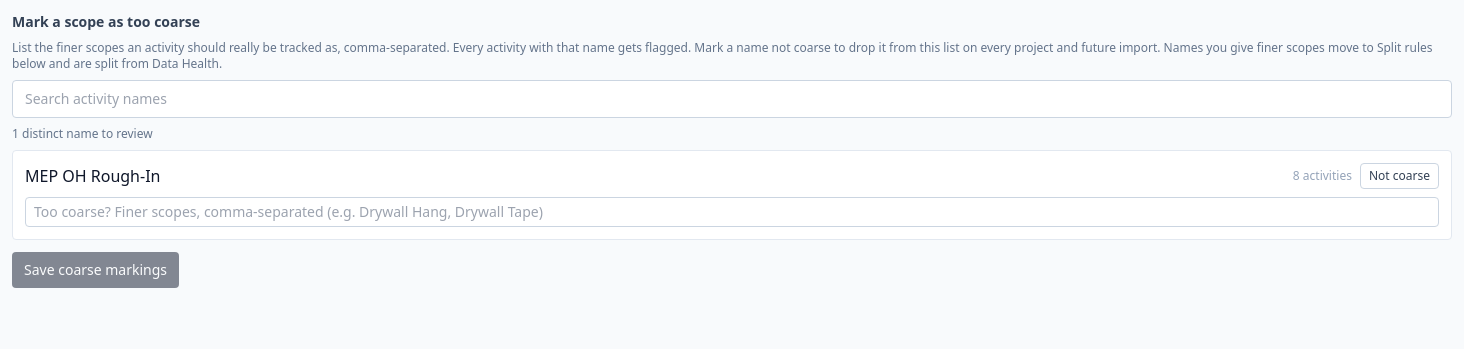
Test: CoarsePanel › reports the server's refusal instead of failing silently
The image size is (1464, 349).
Replace the text in the field with placeholder "Too coarse?" with "A" at (732, 212), box [25,197,1439,227]
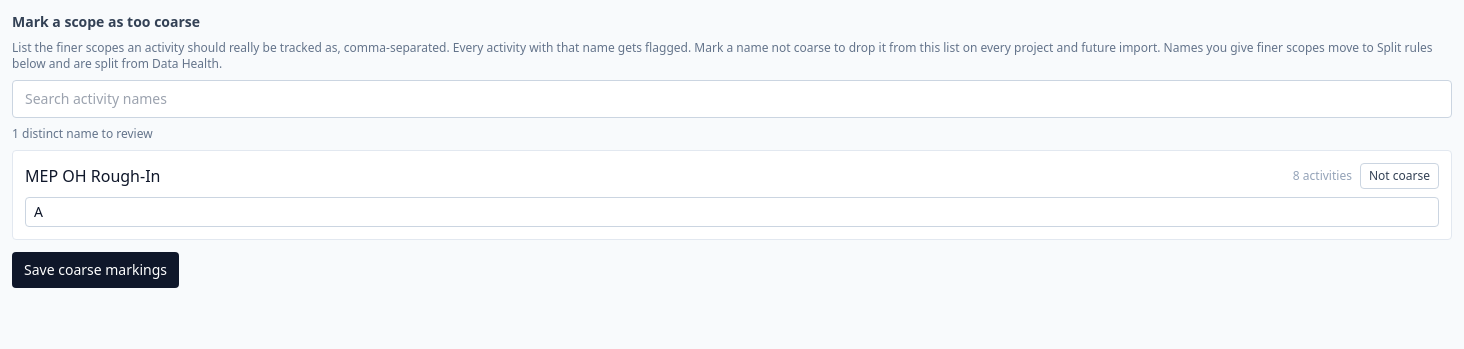
Click the button "Save coarse markings".
click(96, 270)  # box [12,252,179,288]
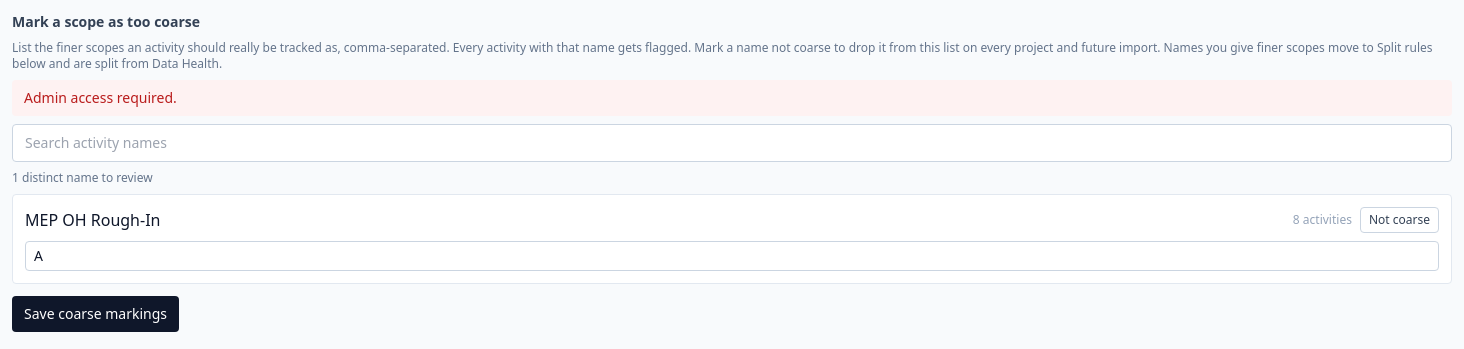
Expected: the text "Admin access required." is shown, [12,80,1452,116]
